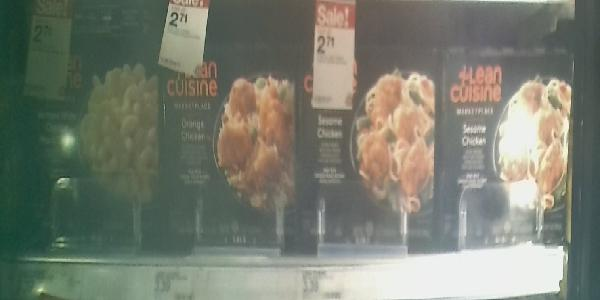pizza1: (15, 1, 159, 244), (295, 46, 438, 247), (158, 41, 295, 244), (438, 46, 567, 243)
